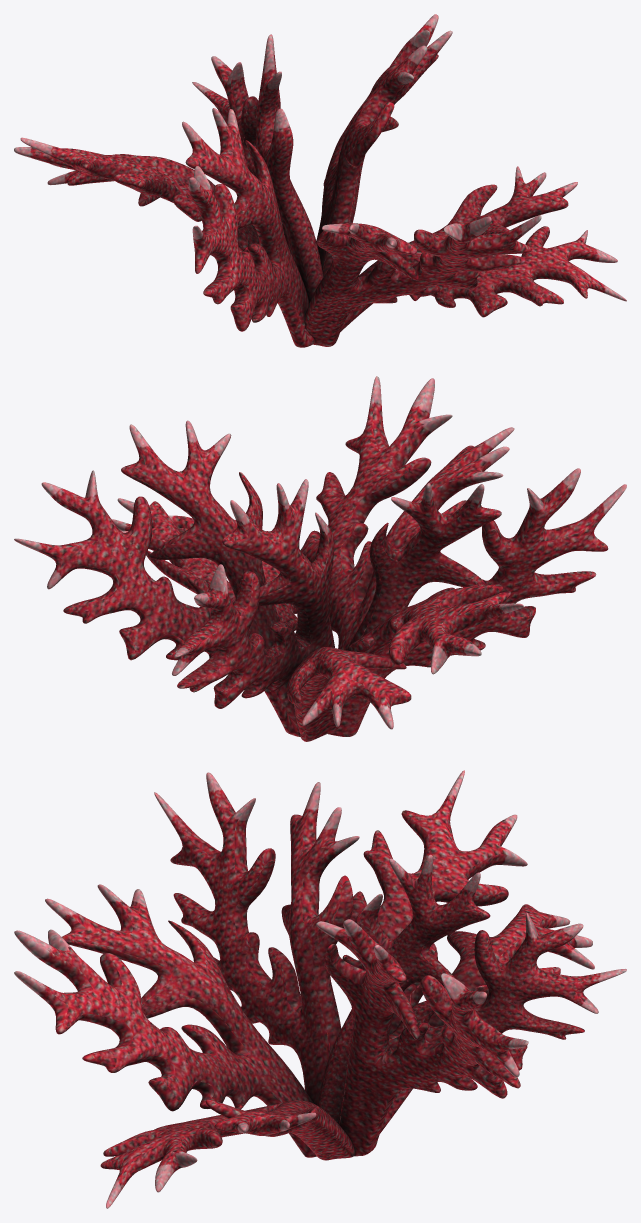
File: coral roger.glb
3 views of the same model, one above another, from view 1: azimuth 30°, elevation 25°; view 2: azimuth 150°, elevation 25°; view 3: azimuth 270°, elevation 25° (orthographic). The views are drawn at different scales.
Visible parts, largest first — view 1: 10010_Coral_v1_L3; view 2: 10010_Coral_v1_L3; view 3: 10010_Coral_v1_L3.
Boxes of the visible parts, bbox=[...] form: 10010_Coral_v1_L3: bbox=[14, 14, 626, 347]; 10010_Coral_v1_L3: bbox=[14, 376, 626, 741]; 10010_Coral_v1_L3: bbox=[14, 770, 626, 1208].
Bounding box in the file's own units: 471 × 253 × 467.
1 material, 1 textured.
